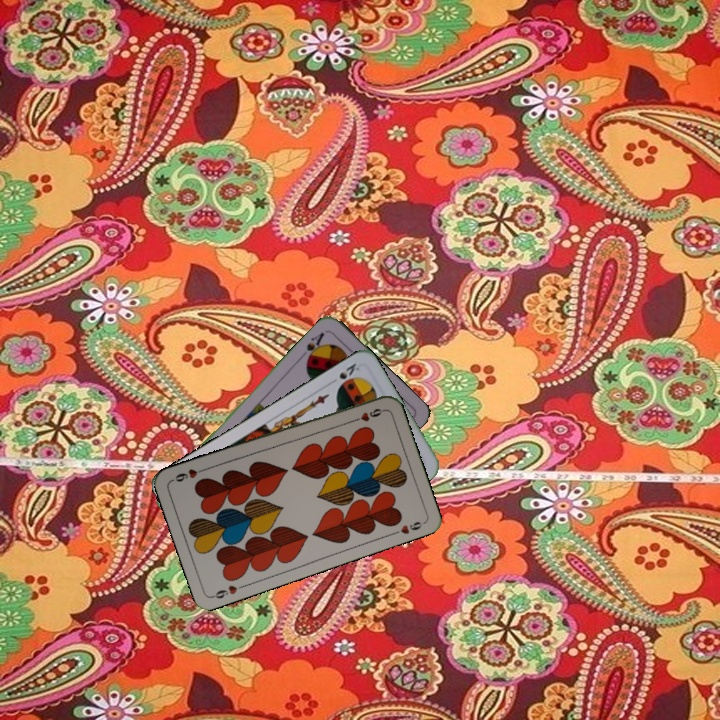H9: (347, 404, 387, 425), (209, 581, 248, 601)
SA: (302, 328, 327, 364)
SK: (325, 359, 363, 387)
